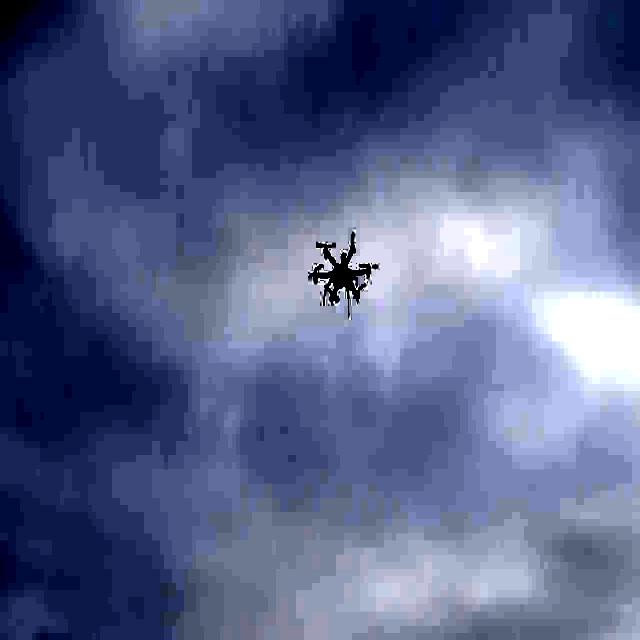drone: (308, 229, 374, 306)
